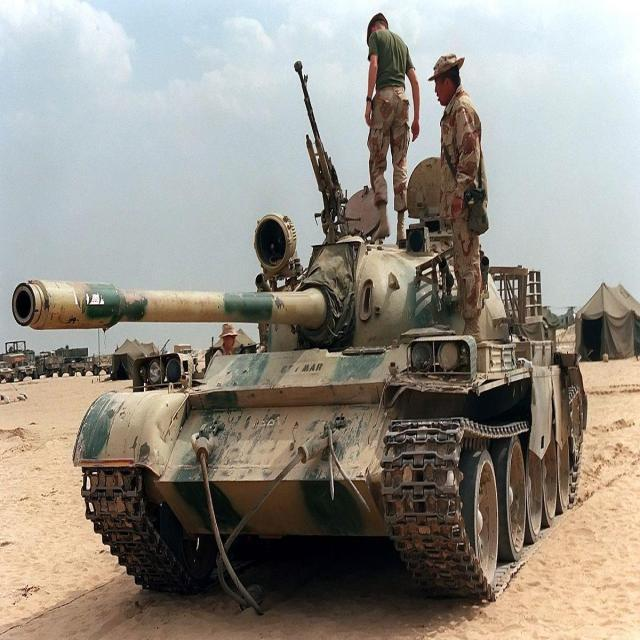MIL_MBT: (18, 211, 604, 576)
